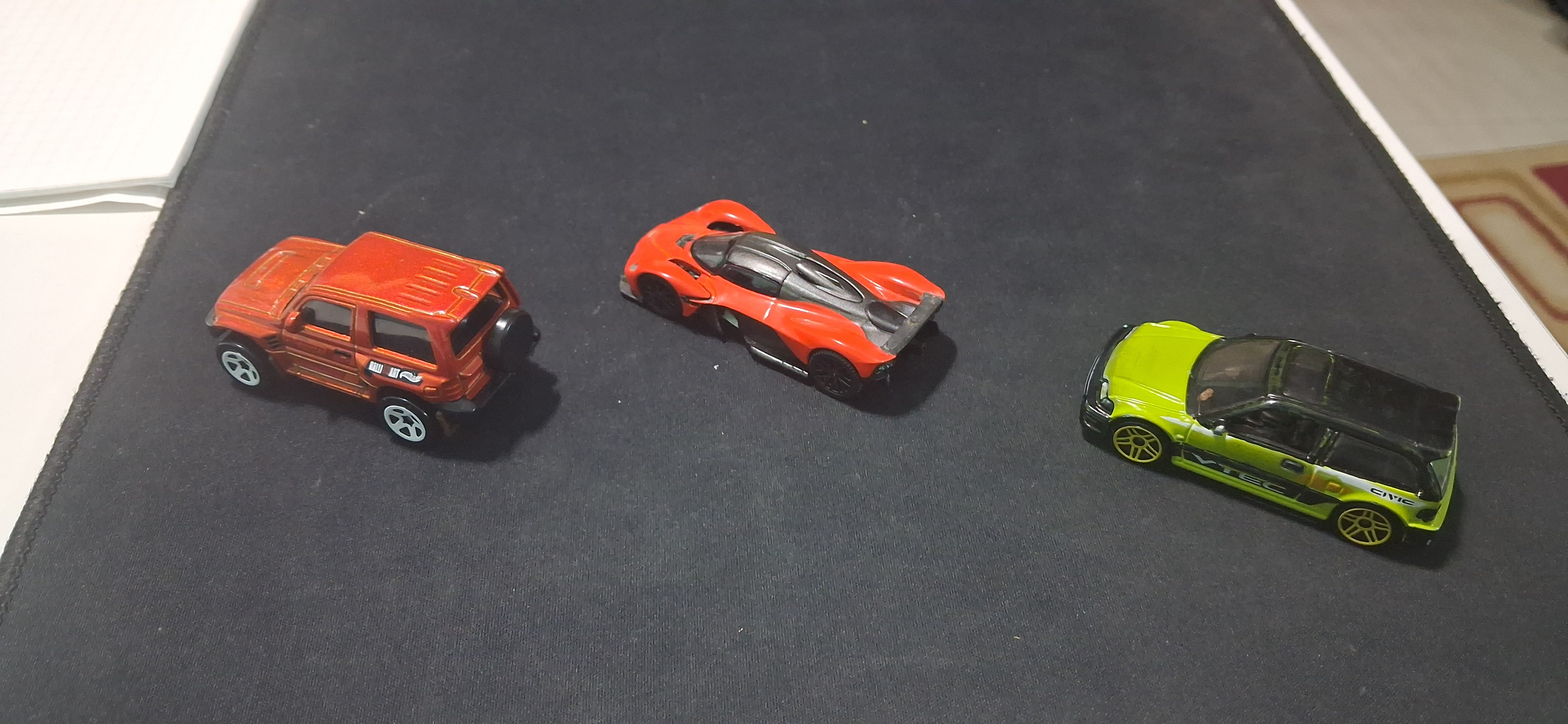Aston_Martin_Valkyrie: (594, 168, 970, 428)
Honda_Civic: (1067, 237, 1516, 584)
Mitsubishi_Pajero_Evolution: (174, 175, 551, 475)
